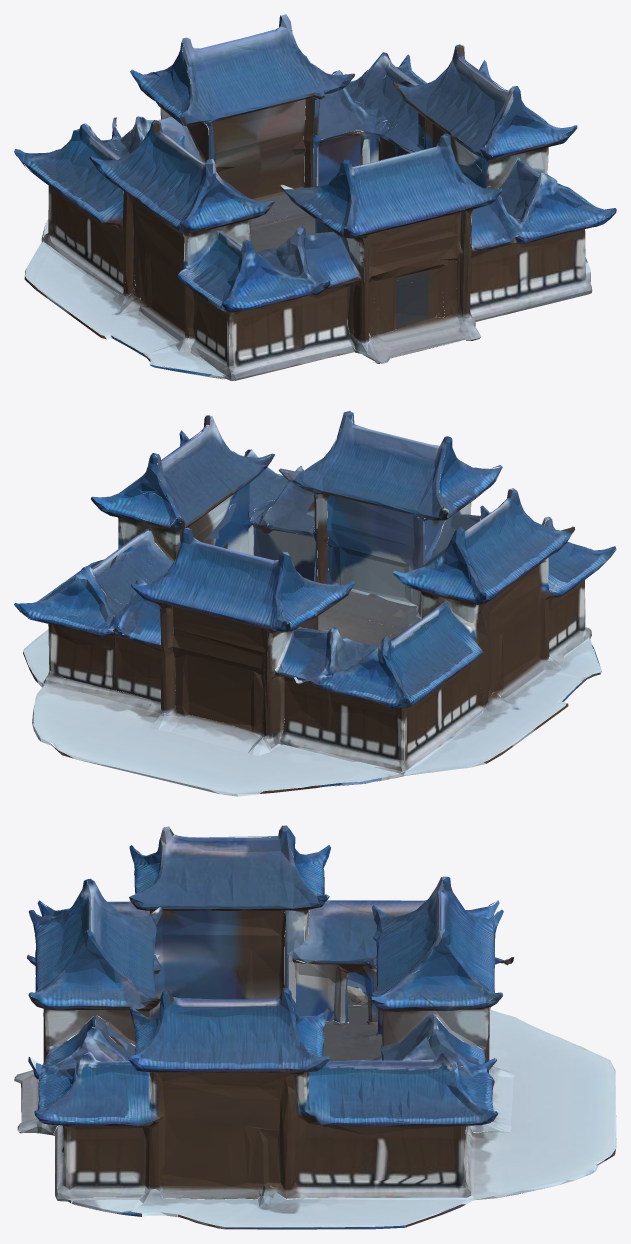
Rendered from 10_food_courtyard.glb.
3 renders of one model, top to bottom at view 1: azimuth 30°, elevation 25°; view 2: azimuth 150°, elevation 25°; view 3: azimuth 270°, elevation 25°, orthographic. The views are drawn at different scales.
Parts seen in each view (by area): view 1: 10_food_courtyard.ply; view 2: 10_food_courtyard.ply; view 3: 10_food_courtyard.ply.
Part boxes in pixels (box(x1,y1,x2,y2)): 10_food_courtyard.ply: box(14, 14, 616, 380); 10_food_courtyard.ply: box(14, 411, 616, 796); 10_food_courtyard.ply: box(14, 825, 616, 1229).
Size of the model in its own units: 0.9871 by 0.3714 by 1.
Materials: 1 (1 with a texture image).
